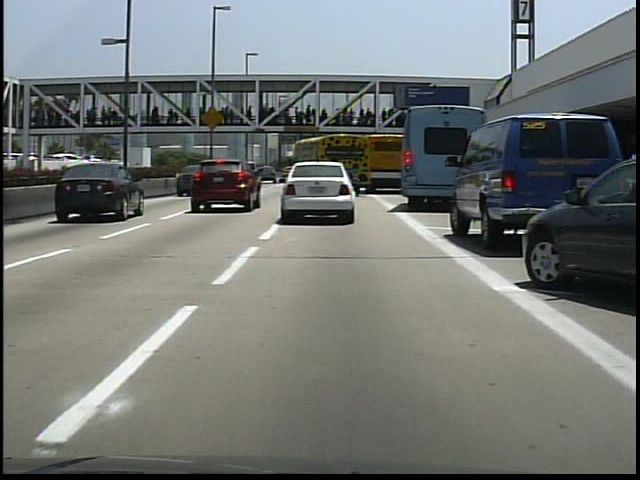car: (54, 154, 140, 221), (177, 152, 263, 216), (277, 162, 363, 226)
